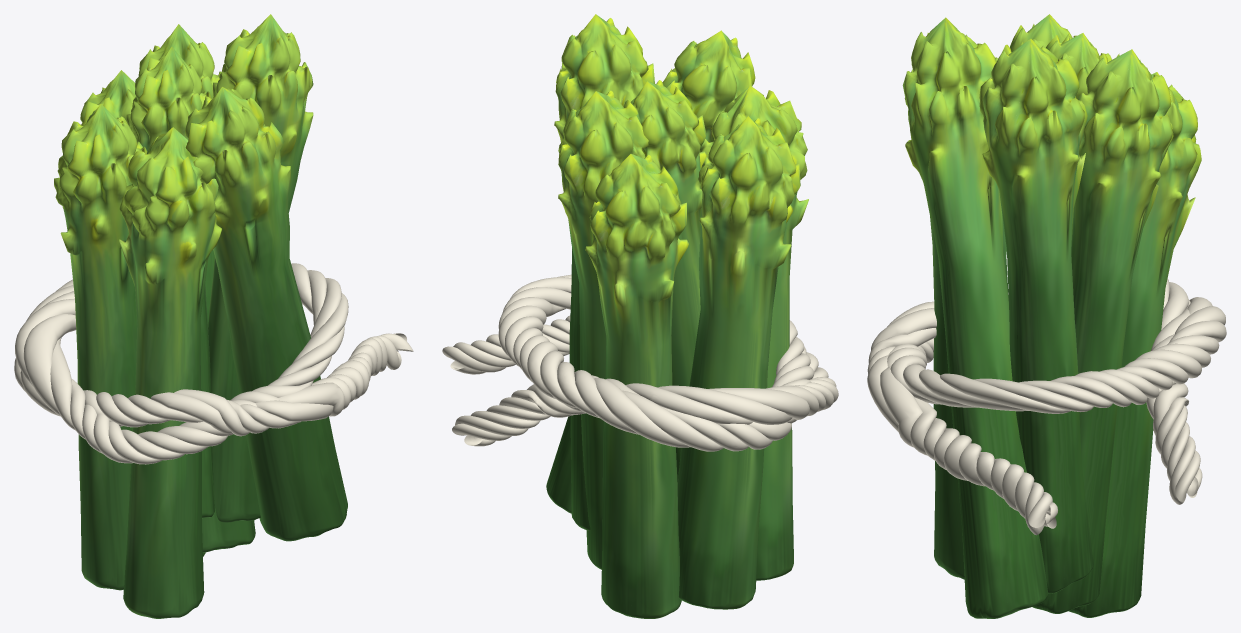
File: loosun.glb
The picture shows the model from 3 angles, left to right: view 1: azimuth 30°, elevation 25°; view 2: azimuth 150°, elevation 25°; view 3: azimuth 270°, elevation 25°; orthographic projection. The views are drawn at different scales.
Visible parts, largest first — view 1: Cylinder.003, string.004; view 2: Cylinder.003, string.004; view 3: Cylinder.003, string.004.
Boxes of the visible parts, x1,y1,x2,y2 form: Cylinder.003: [54, 14, 347, 618]; string.004: [14, 263, 413, 464]; Cylinder.003: [546, 14, 808, 618]; string.004: [442, 274, 838, 451]; Cylinder.003: [902, 14, 1201, 618]; string.004: [867, 278, 1226, 535].
Bounding box in the file's own units: 0.8441 × 1.21 × 0.6527.
Materials: 2 (1 with a texture image).
